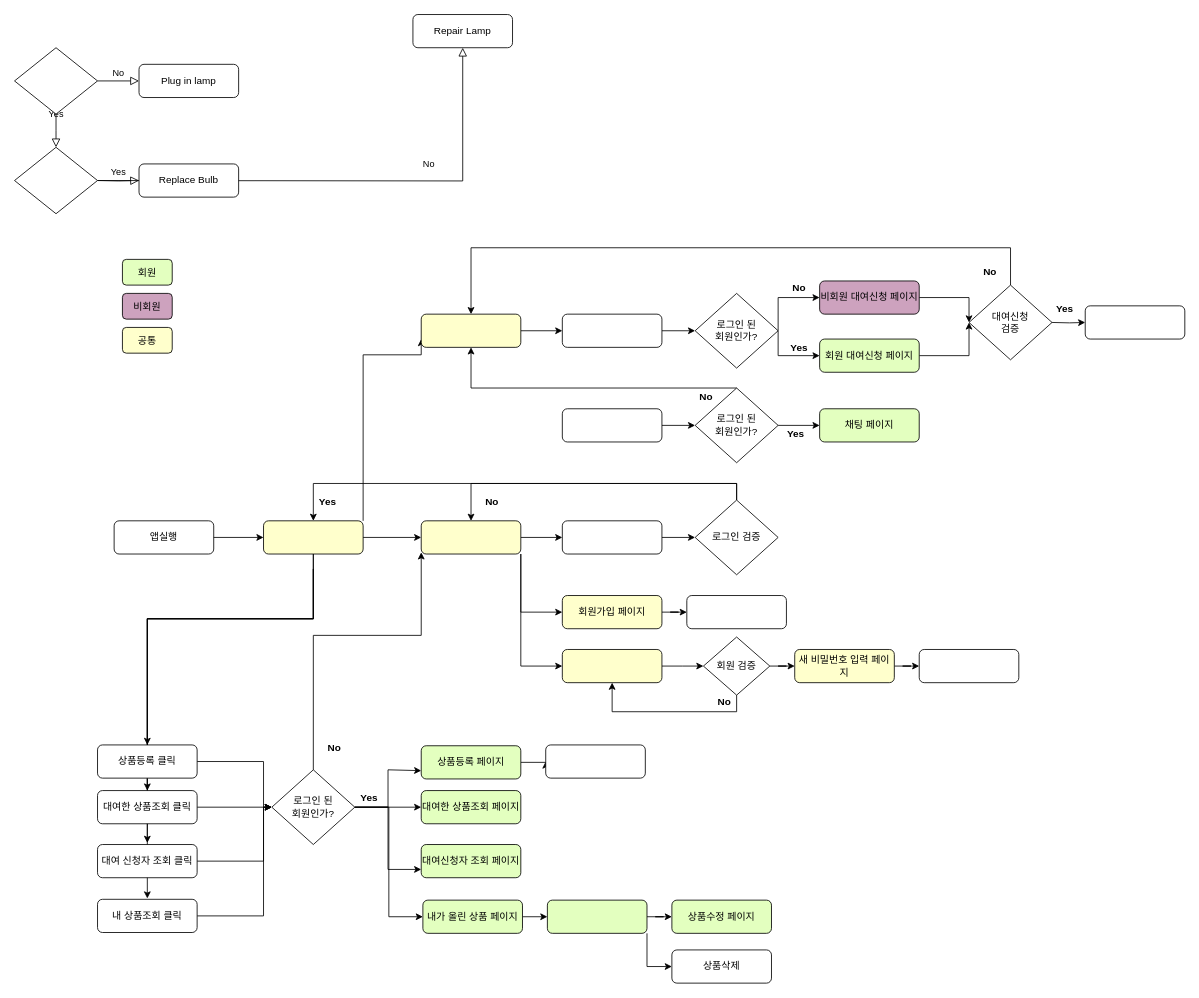
Image size: 1199x998. Some labels were removed from this diagram. Here are the shapes that lost their labels. From the top down, the centre of each, then its label:
(x=56, y=80): Lamp plugged in?
(x=56, y=180): Bulb burned out?
(x=470, y=330): 상품상세조회 페이지
(x=611, y=330): 대여 신청서 작성하기 클릭
(x=1134, y=322): 대여신청 완료
(x=611, y=425): 상품문의 채팅 클릭
(x=313, y=537): 메인화면 (상품목록 페이지)
(x=470, y=537): 로그인 페이지
(x=611, y=537): 로그인하기
(x=736, y=612): 회원가입 완료 (메인화면 이동)
(x=611, y=666): 비밀번호 찾기 페이지
(x=968, y=666): 비밀번호 변경 완료
(x=595, y=761): 상품등록 완료
(x=597, y=916): 내 상품 상세조회 페이지
